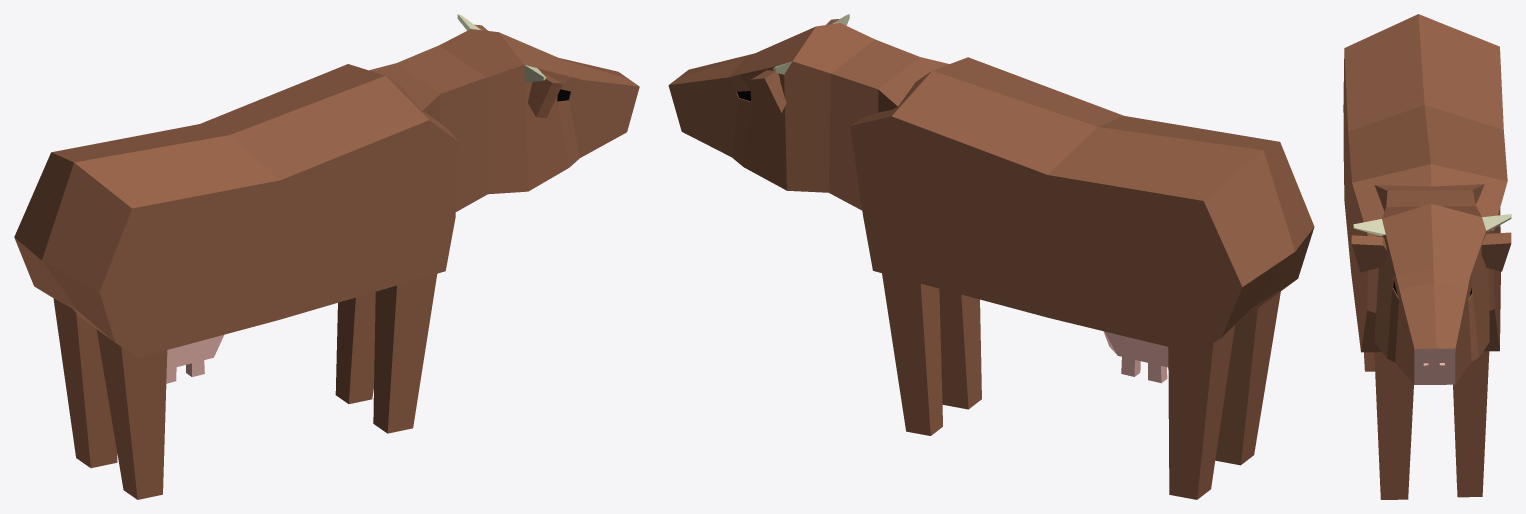
File: Cow.fbx
3 views of the same model, side by side, from view 1: azimuth 30°, elevation 25°; view 2: azimuth 150°, elevation 25°; view 3: azimuth 270°, elevation 25° (orthographic). The views are drawn at different scales.
Parts seen in each view (by area): view 1: Cow; view 2: Cow; view 3: Cow.
Boxes of the visible parts, x1=… form: Cow: x1=14, y1=14, x2=639, y2=499; Cow: x1=668, y1=14, x2=1314, y2=499; Cow: x1=1343, y1=14, x2=1511, y2=499.
Size of the model in its own units: 624 by 351 by 153.
